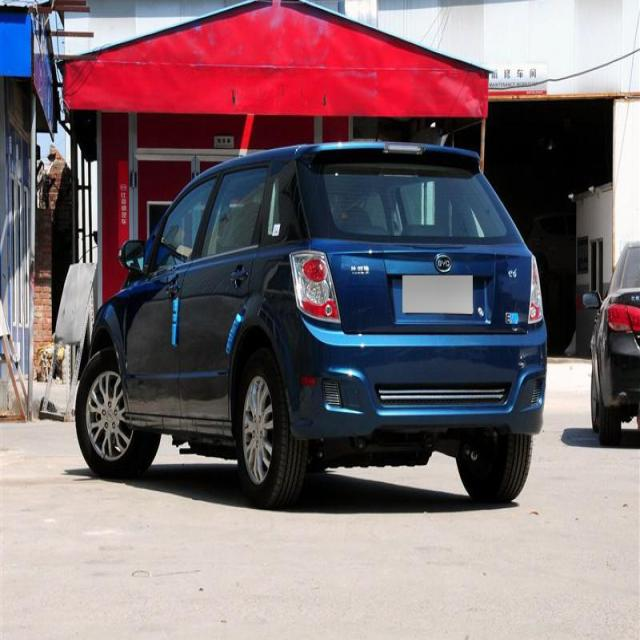back_glass: (316, 157, 509, 240)
back_left_side_light: (289, 248, 342, 324)
back_right_side_light: (526, 255, 544, 325)
door: (178, 163, 276, 424)
front_left_side_door: (122, 167, 222, 419)
front_left_side_mirror: (118, 237, 146, 277)
rear_bumper: (282, 323, 548, 440)
wheel: (75, 348, 162, 480), (235, 352, 307, 511), (454, 436, 534, 502)
